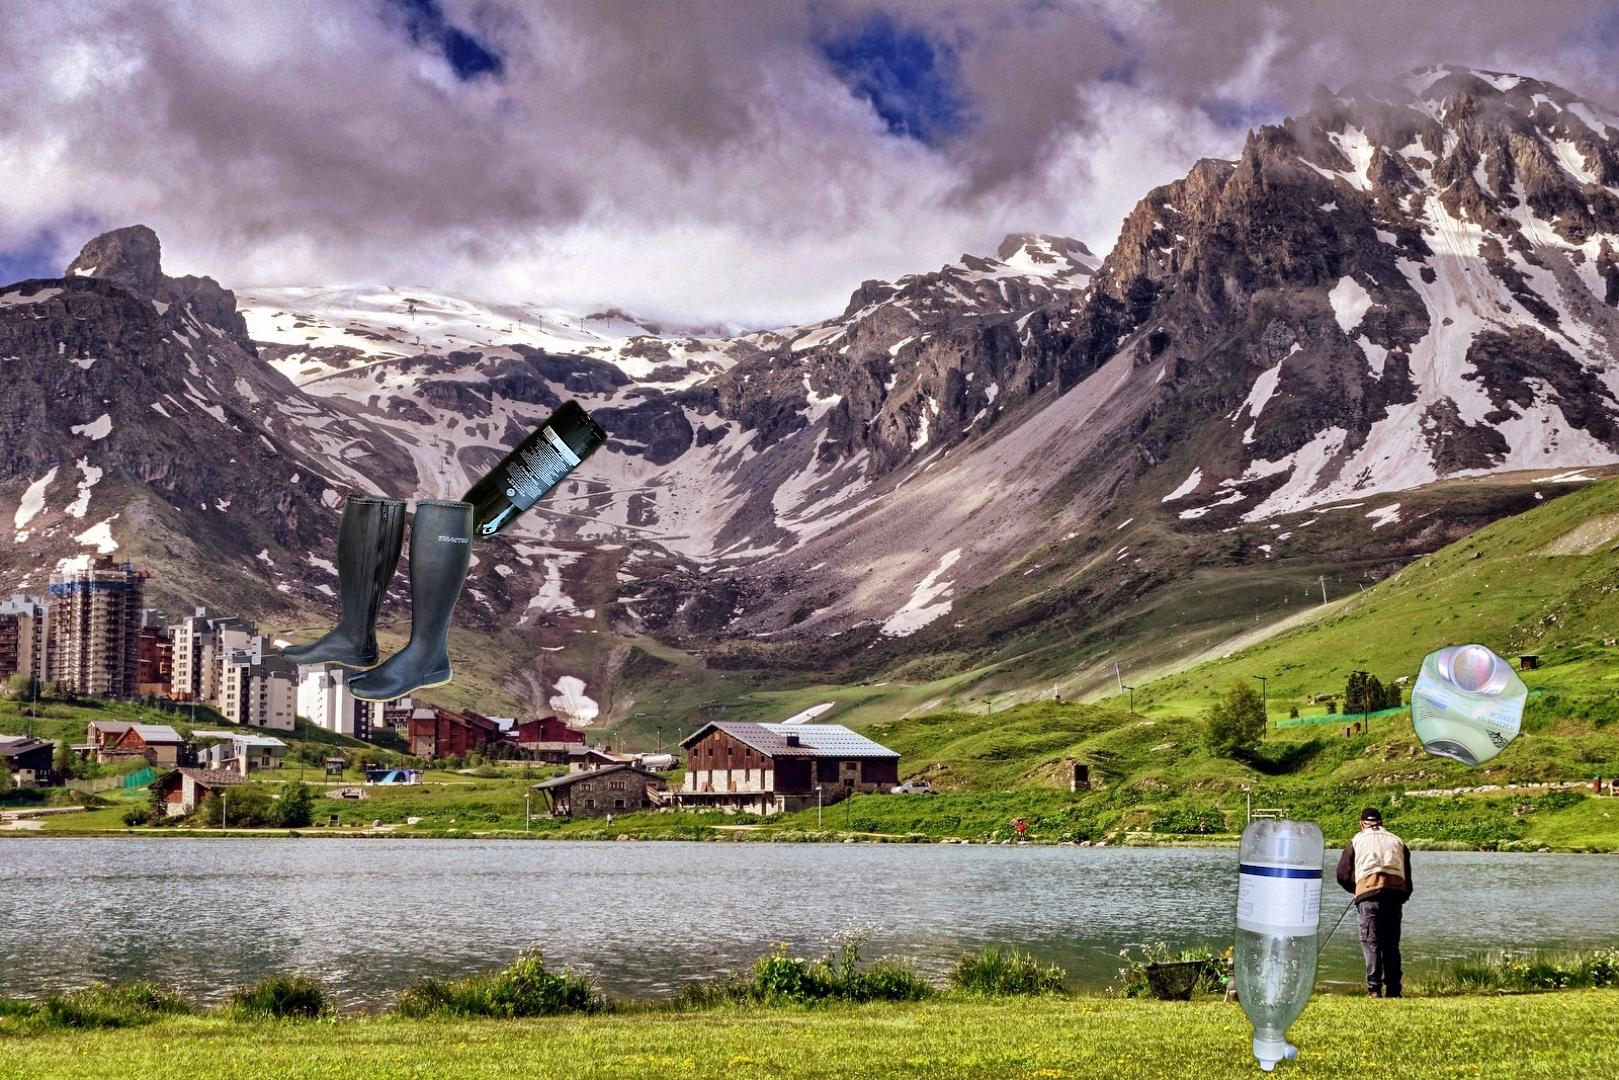glass: (407, 393, 611, 588)
metal-cans: (1406, 636, 1533, 771)
plastic-bottles: (1230, 812, 1328, 1078)
shoes: (276, 491, 477, 706)
